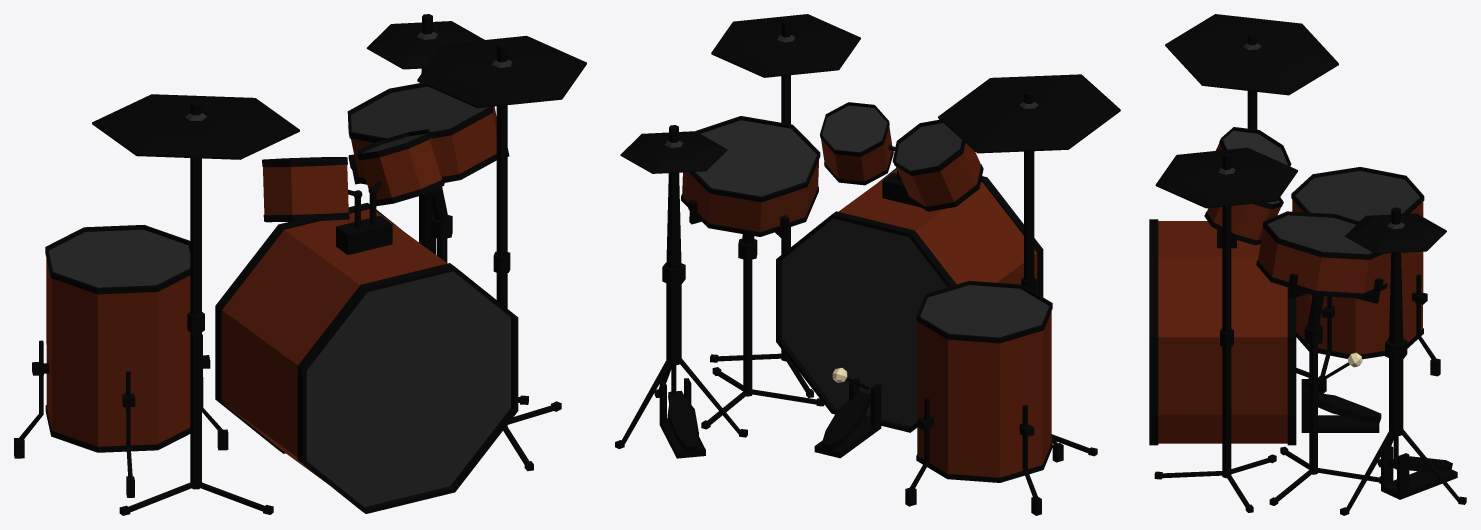
File: Drumkit.fbx
3 renders of one model, left to right at view 1: azimuth 30°, elevation 25°; view 2: azimuth 150°, elevation 25°; view 3: azimuth 270°, elevation 25°, orthographic. The views are drawn at different scales.
Visible parts, largest first — view 1: Zylinder, TomTom2, China, Snaredrum, Crash, TomTom1, ChinaFoot, TomTom, CrashFoot_1, Hihat, Würfel_2, HiHatFoot (+4 smaller); view 2: Zylinder, TomTom2, Snaredrum, China, Crash, TomTom1, TomTom, HiHatFoot, Hihat, SnareFoot, ChinaFoot, CrashFoot_1 (+7 smaller); view 3: Zylinder, TomTom2, China, Snaredrum, Crash, HiHatFoot, CrashFoot_1, Hihat, SnareFoot, Würfel_2_2, TomTom, TomTom1 (+7 smaller).
Part boxes in pixels (box(x1,y1,x2,y2)): Zylinder: box(215, 203, 518, 513); TomTom2: box(45, 225, 190, 452); China: box(92, 94, 299, 159); Snaredrum: box(347, 83, 496, 184); Crash: box(417, 35, 586, 108); TomTom1: box(262, 157, 349, 222); ChinaFoot: box(119, 101, 273, 515); TomTom: box(357, 129, 444, 206); CrashFoot_1: box(492, 42, 561, 471); Hihat: box(366, 21, 484, 69); Würfel_2: box(336, 215, 392, 254); HiHatFoot: box(417, 14, 437, 254); Zylinder: box(776, 168, 1043, 432); TomTom2: box(916, 280, 1052, 482); Snaredrum: box(681, 116, 820, 236); China: box(938, 74, 1120, 153); Crash: box(711, 14, 860, 77); TomTom1: box(892, 119, 983, 211); TomTom: box(820, 102, 893, 185); HiHatFoot: box(615, 125, 747, 448); Hihat: box(620, 131, 727, 173); SnareFoot: box(701, 238, 824, 429); ChinaFoot: box(1019, 91, 1097, 456); CrashFoot_1: box(710, 19, 813, 397); Zylinder: box(1149, 219, 1296, 445); TomTom2: box(1291, 167, 1424, 359); China: box(1165, 14, 1338, 95); Snaredrum: box(1256, 211, 1391, 298); Crash: box(1155, 147, 1297, 208); HiHatFoot: box(1340, 207, 1466, 515); CrashFoot_1: box(1154, 153, 1276, 512); Hihat: box(1345, 213, 1446, 253); SnareFoot: box(1269, 324, 1380, 505); Würfel_2_2: box(1381, 445, 1457, 499); TomTom: box(1204, 197, 1283, 245); TomTom1: box(1215, 127, 1291, 166).
Bounding box in the file's own units: 163 × 130 × 114.
